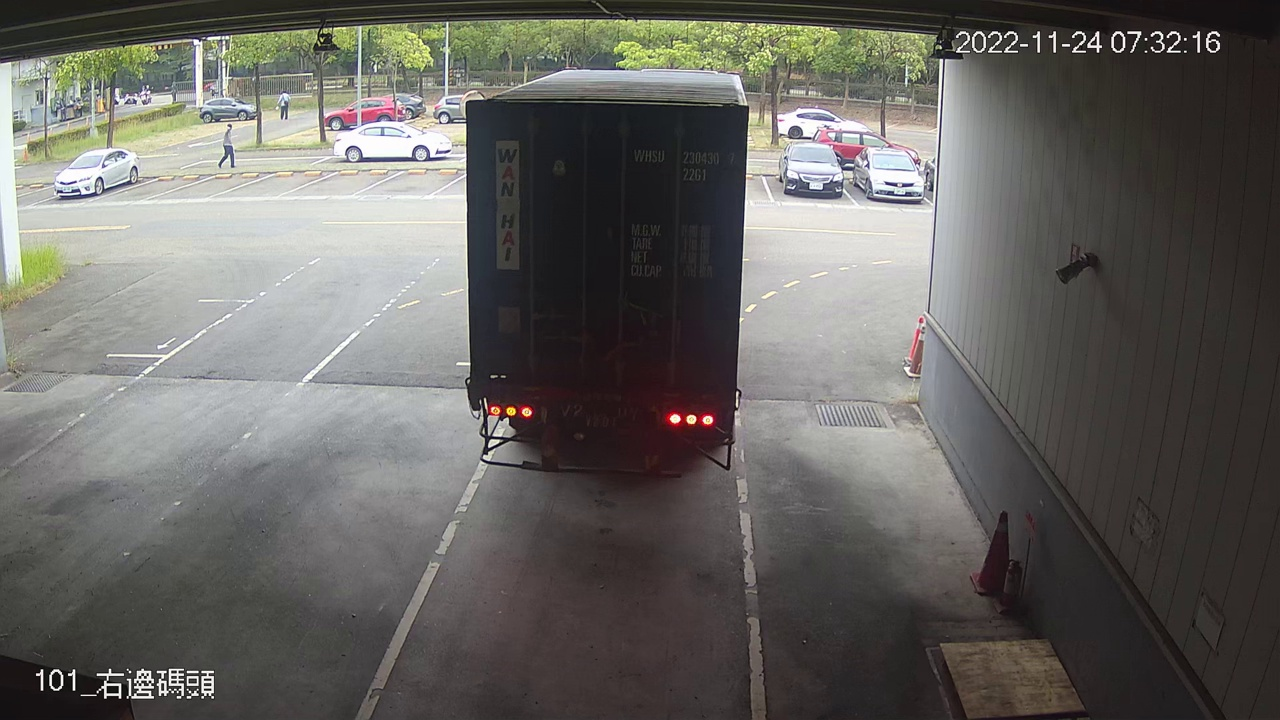container: (629, 140, 742, 191)
